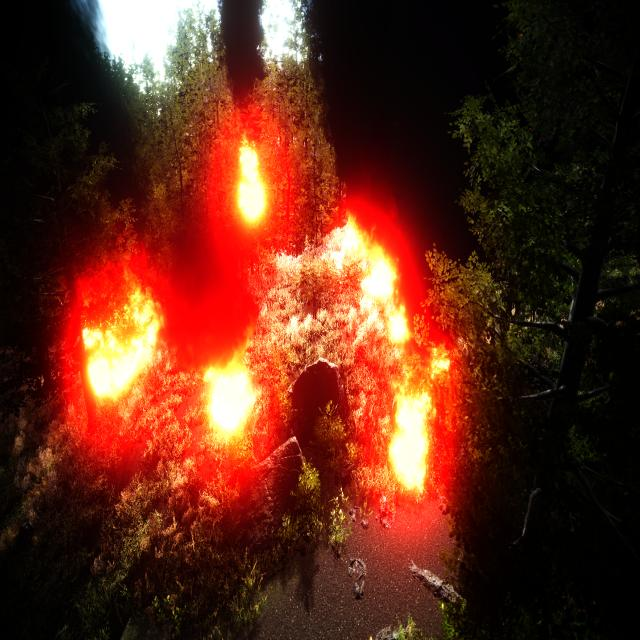Human: (309, 281, 319, 328)
